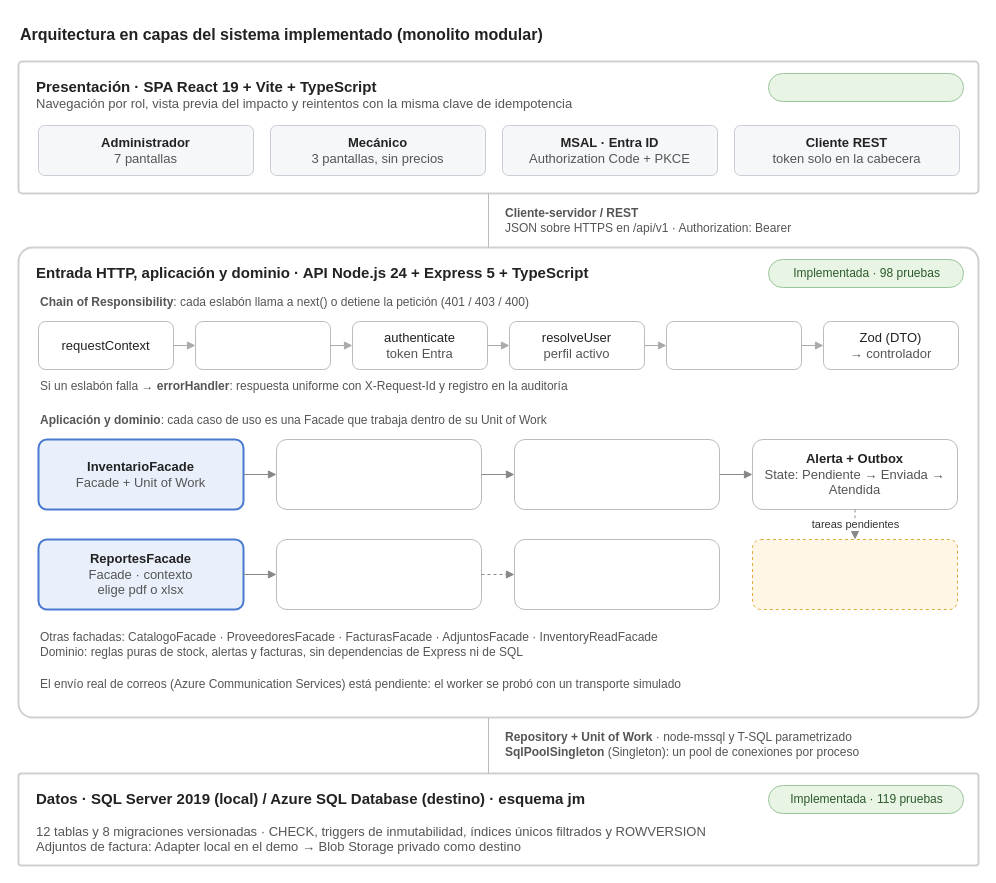
This 996x883 diagram has some shape labels left out. Here are the shapes that lost their labels. From the top down, the centre of each, then its label:
At pixel 866 87: "Implementada · 15 pruebas".
At pixel 262 345: "helmet · CORS JSON 64 KB".
At pixel 734 345: "requireRole".
At pixel 379 474: "TransactionalPublisher Observer · sujeto evento StockCambiado".
At pixel 617 474: "StockAlertObserver Observer · observador".
At pixel 379 574: "InventoryReportStrategy Strategy · contrato".
At pixel 617 574: "Pdf / ExcelInventoryStrategy estrategias concretas".
At pixel 855 574: "NotificationWorker proceso aparte · reservas y reintentos".
